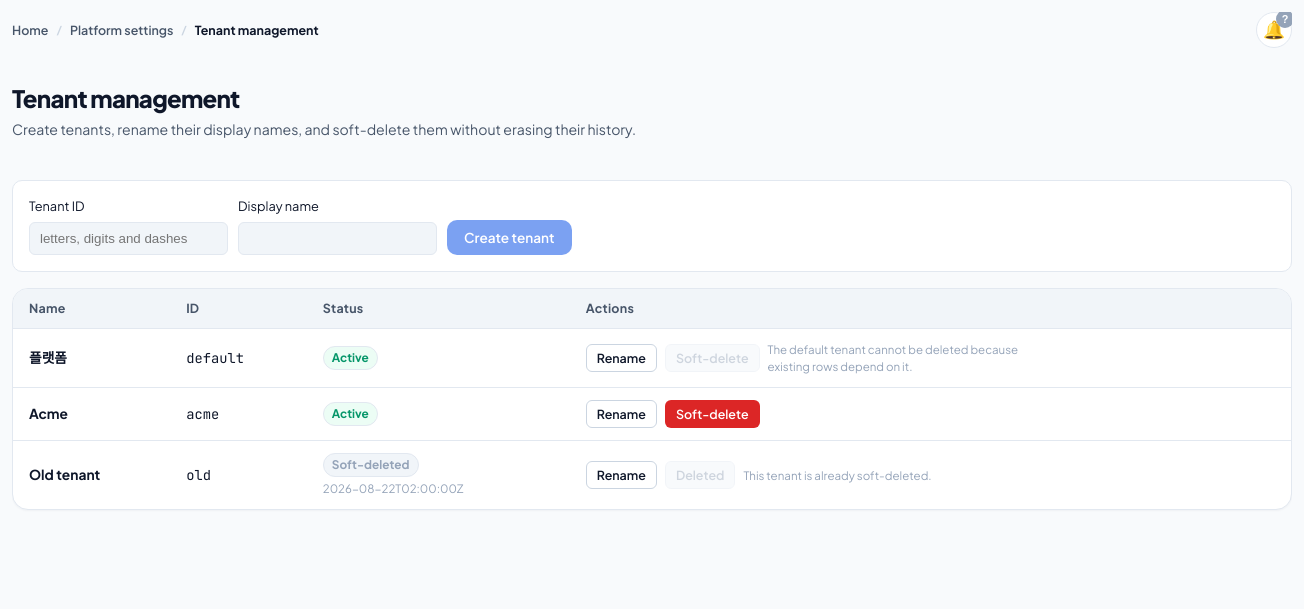
Scenario: tenant management › soft-deletes without making the row disappear
The image size is (1304, 609).
Click the button with test id "tenant-delete-acme" at (712, 414), box [665,400,760,428]
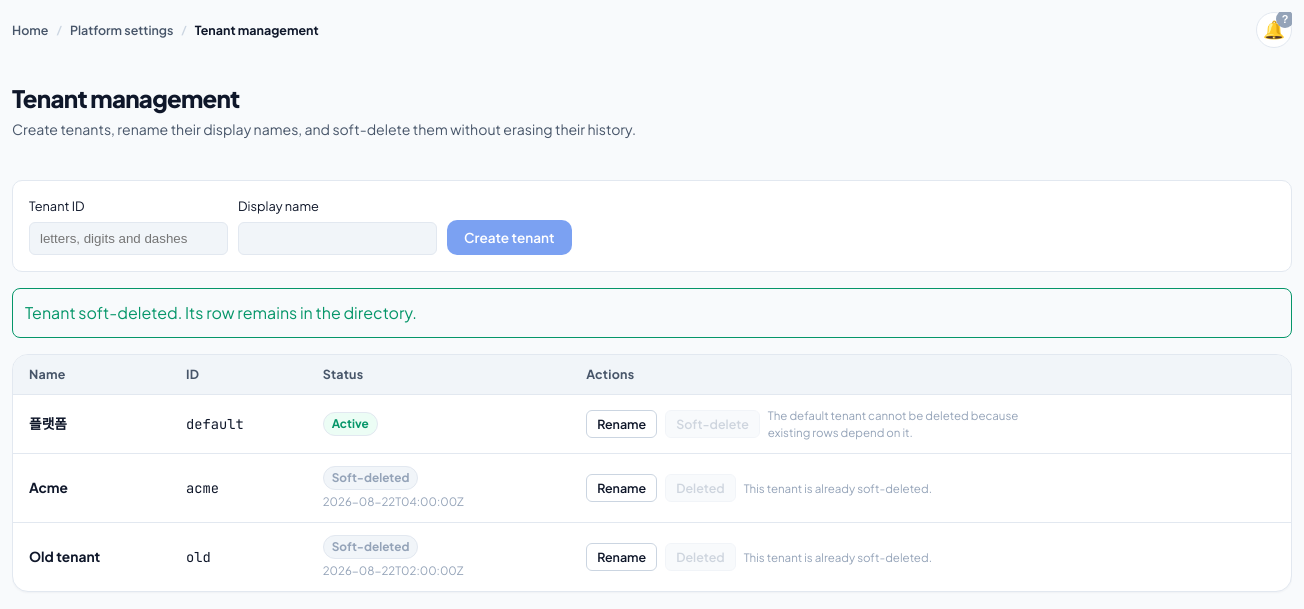
Expected: the element with test id "tenant-status-acme" shows "Soft-deleted", [332,470,409,485]
Expected: the button with test id "tenant-delete-acme" is disabled, [665,474,736,502]
Expected: the text with test id "tenant-mutation-notice" reads "Tenant soft-deleted. Its row remains in the directory.", [25,302,417,323]
